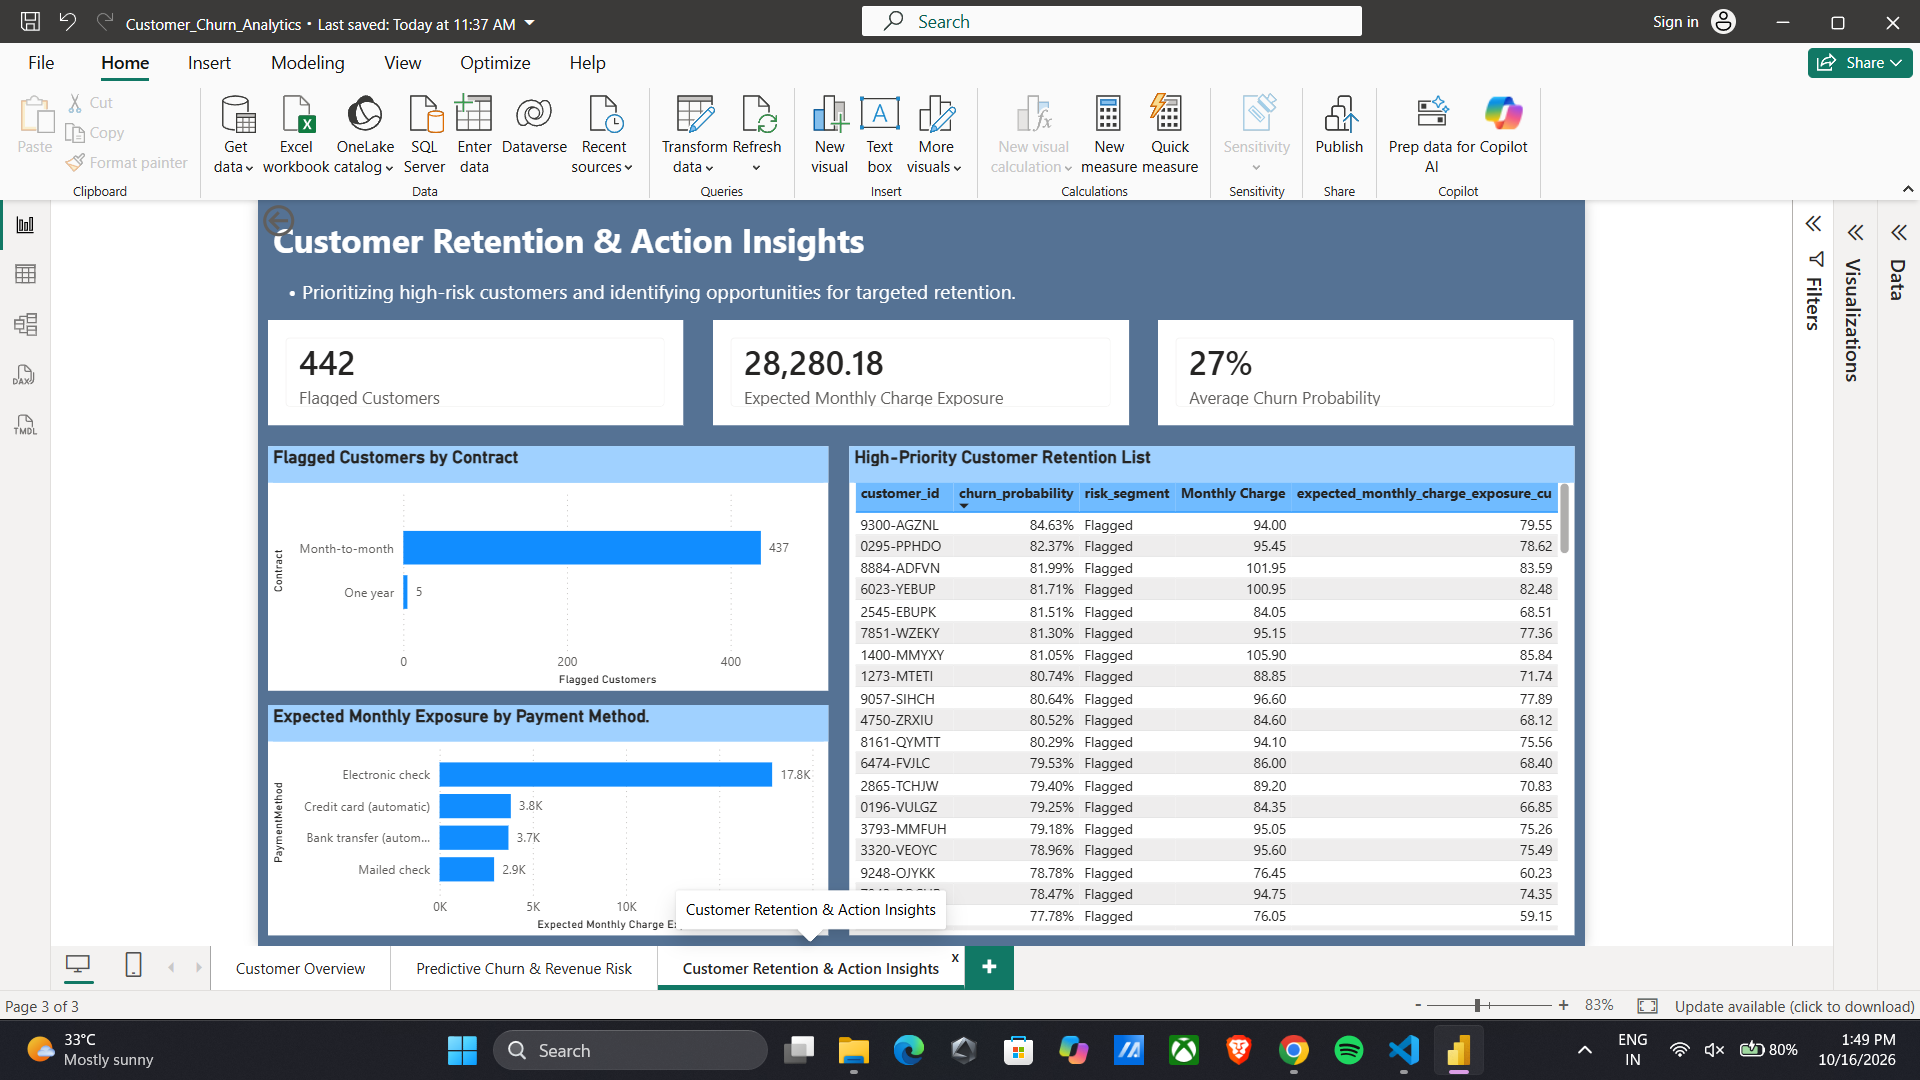

This screenshot's page, from the dashboard's own definition file:
{"tool":"powerbi","page":{"name":"Customer Retention & Action Insights","canvas":[1280,720],"ordinal":2},"visuals":[{"type":"textbox","box":[9.6,12.3,1261.1,59],"z":0},{"type":"textbox","box":[10,71.3,1260,44.2],"z":1000},{"type":"cardVisual","fields":{"Data":["customer_risk.Flagged Customers"]},"box":[10,115.5,400.5,101.2],"z":1001},{"type":"cardVisual","fields":{"Data":["customer_risk.Expected Monthly Charge Exposure"]},"box":[439.1,115.8,401.7,101.3],"z":1002},{"type":"actionButton","box":[0,0,100,40],"z":1003},{"type":"cardVisual","fields":{"Data":["customer_risk.Average Churn Probability"]},"box":[868.6,115.8,400.5,101.3],"z":1004},{"type":"clusteredBarChart","fields":{"Category":["customer_risk.Contract"],"Y":["customer_risk.Flagged Customers"]},"box":[9.6,237.4,540.7,236],"z":1005},{"type":"clusteredBarChart","title":"Expected Monthly Exposure by Payment Method.","fields":{"Category":["customer_risk.PaymentMethod"],"Y":["customer_risk.Expected Monthly Charge Exposure"]},"box":[9.6,487.1,540.7,222.3],"z":1006},{"type":"tableEx","title":"High-Priority Customer Retention List","fields":{"Values":["customer_risk.customer_id","Sum(customer_risk.churn_probability)","customer_risk.risk_segment","Sum(customer_risk.MonthlyCharges)","Sum(customer_risk.expected_monthly_charge_exposure_cu)"]},"box":[570.8,237.4,699.8,472],"z":1007}]}

Visuals, with their boxes on the page's 1280x720 design canvas (x1, y1, x2, y2). These are canvas units, not pixel positions in the 1920x1080 screenshot, which may show the page scaled, cropped or inside an application window:
textbox: x1=10, y1=12, x2=1271, y2=71
textbox: x1=10, y1=71, x2=1270, y2=116
cardVisual - customer_risk.Flagged Customers: x1=10, y1=116, x2=410, y2=217
cardVisual - customer_risk.Expected Monthly Charge Exposure: x1=439, y1=116, x2=841, y2=217
actionButton: x1=0, y1=0, x2=100, y2=40
cardVisual - customer_risk.Average Churn Probability: x1=869, y1=116, x2=1269, y2=217
clusteredBarChart - customer_risk.Contract x customer_risk.Flagged Customers: x1=10, y1=237, x2=550, y2=473
"Expected Monthly Exposure by Payment Method." clusteredBarChart: x1=10, y1=487, x2=550, y2=709
"High-Priority Customer Retention List" tableEx: x1=571, y1=237, x2=1271, y2=709
